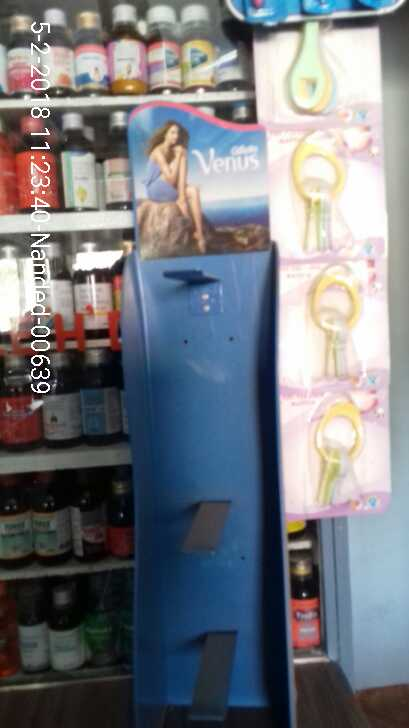reject: (142, 313, 204, 397)
